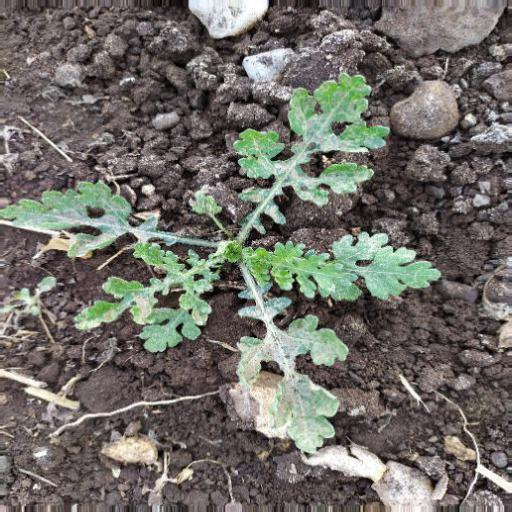weed: (11, 71, 442, 442)
